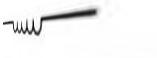inductor: (6, 10, 47, 36)
